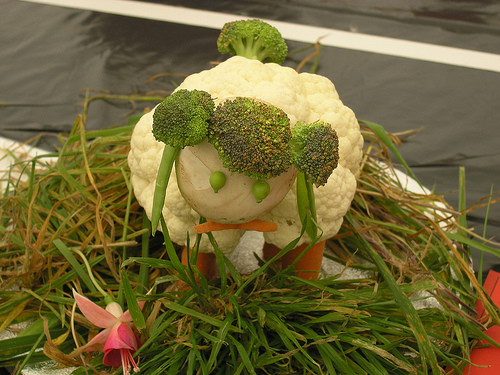cauliflower: (128, 57, 363, 256)
